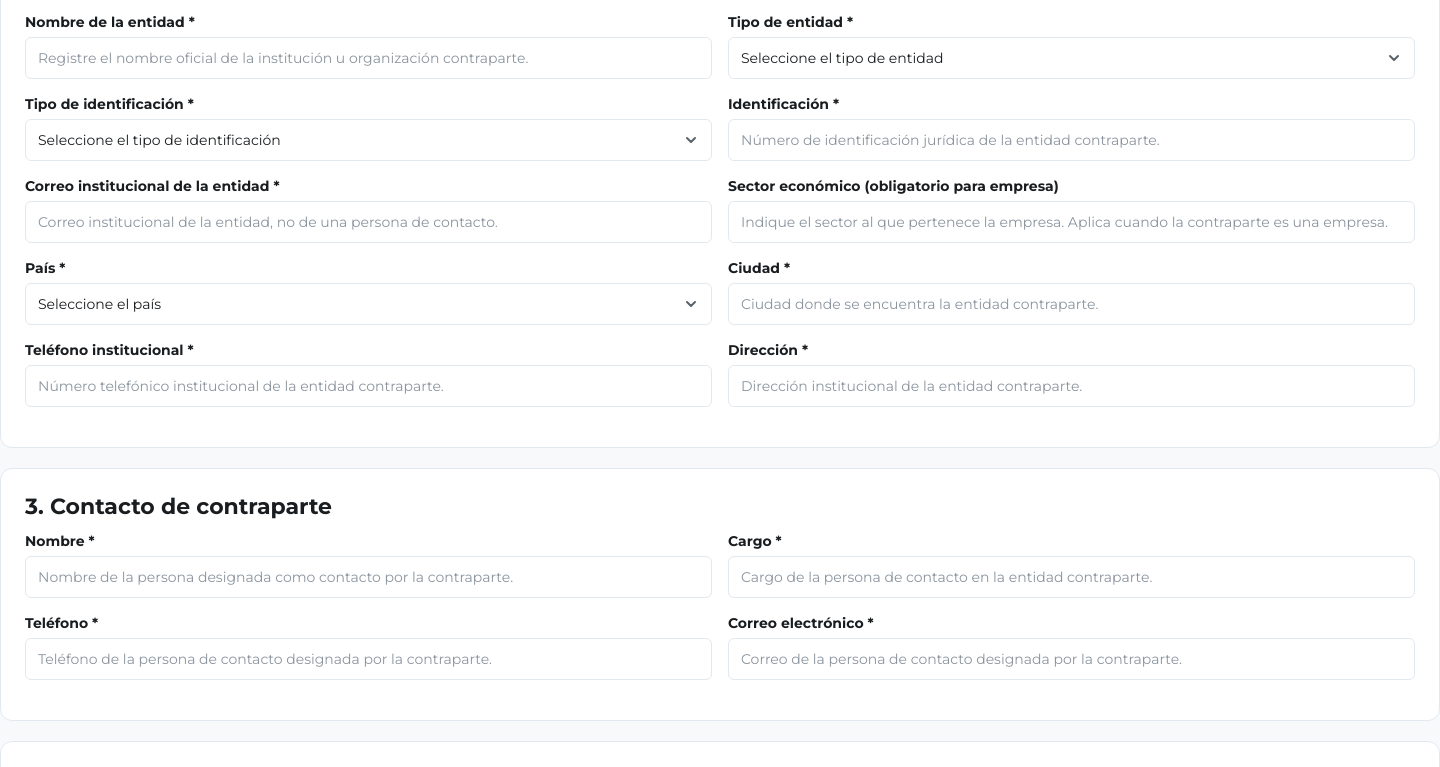
Test: validación de formato en el formulario de solicitud (HT14-FE02) › asocia el error al campo de forma accesible y lo retira al corregir (CA-07)
(page scrolled)
Type "abc" into the field labelled "Teléfono institucional *" at coordinates (368, 386), box x1=25 y1=365 x2=712 y2=407
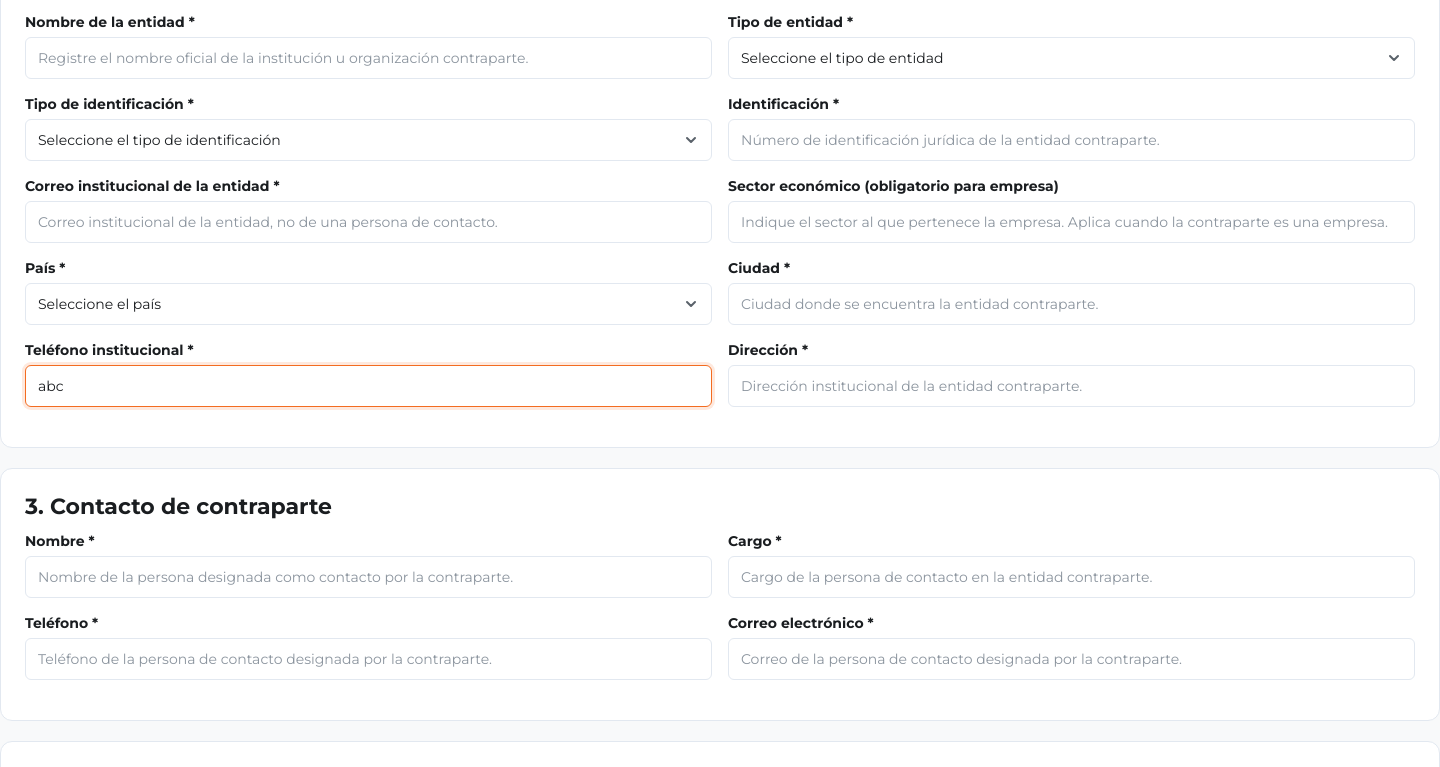
Press Tab
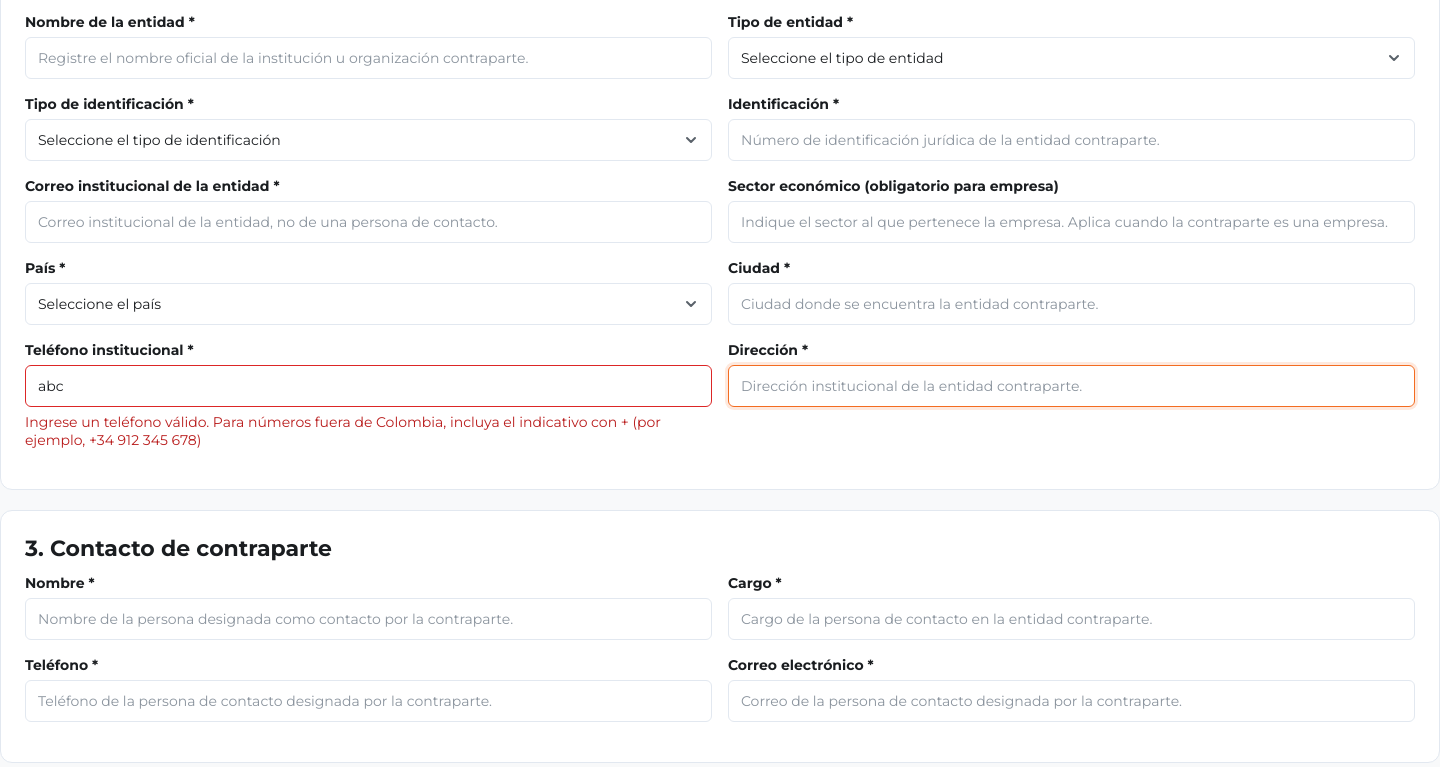
Replace the text in the field labelled "Teléfono institucional *" with "+57 300 123 4567" at coordinates (368, 386), box x1=25 y1=365 x2=712 y2=407
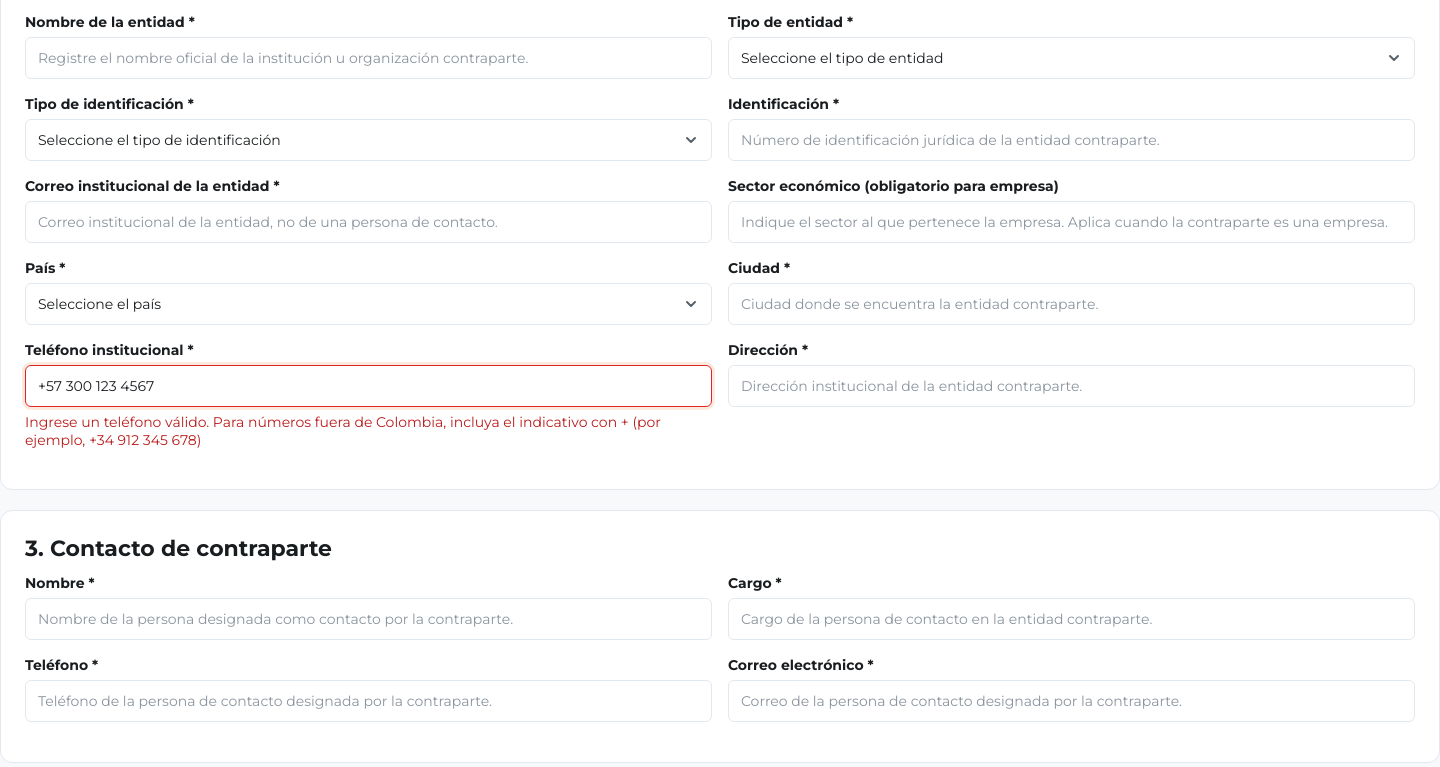
Press Tab
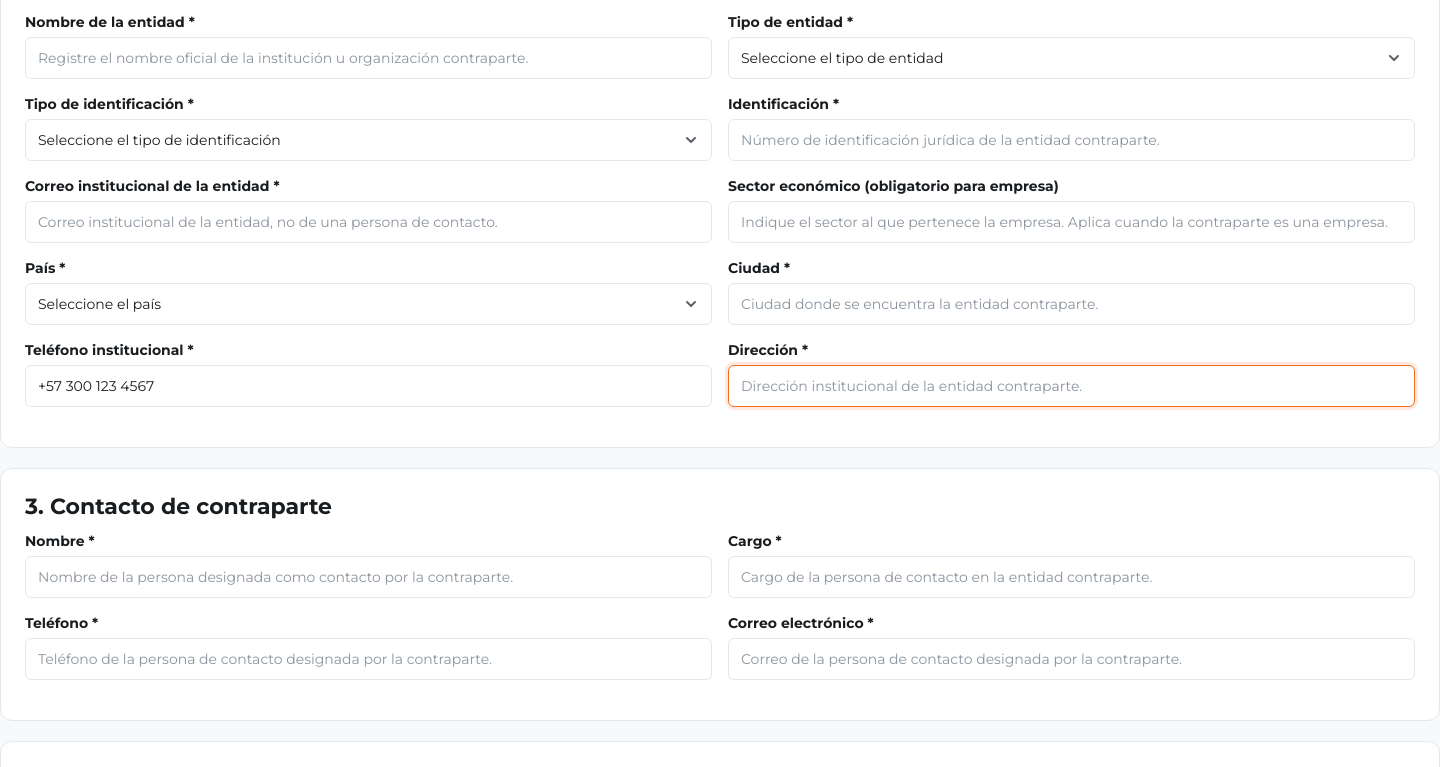
Check: the text "Ingrese un teléfono válido" is gone
